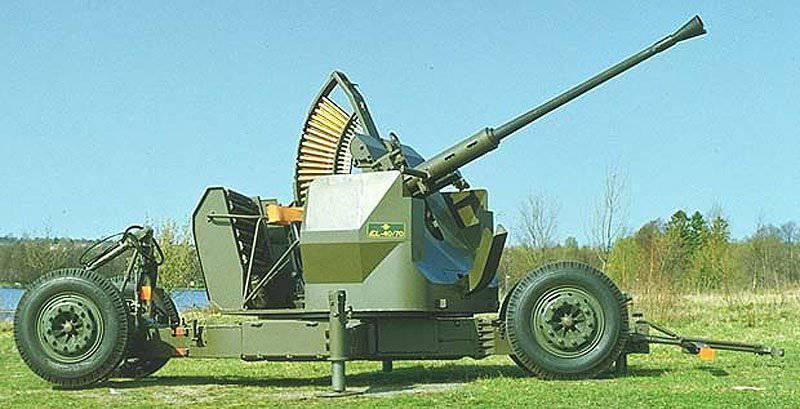MIL_SPG: (14, 16, 783, 391)
